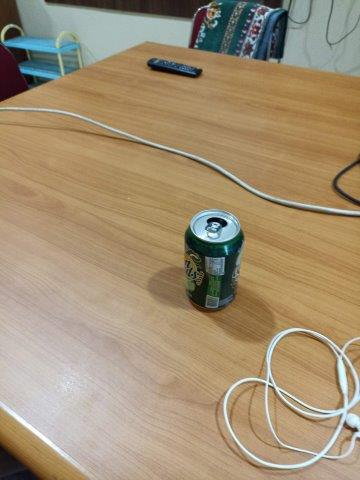kaleng: (184, 208, 246, 313)
